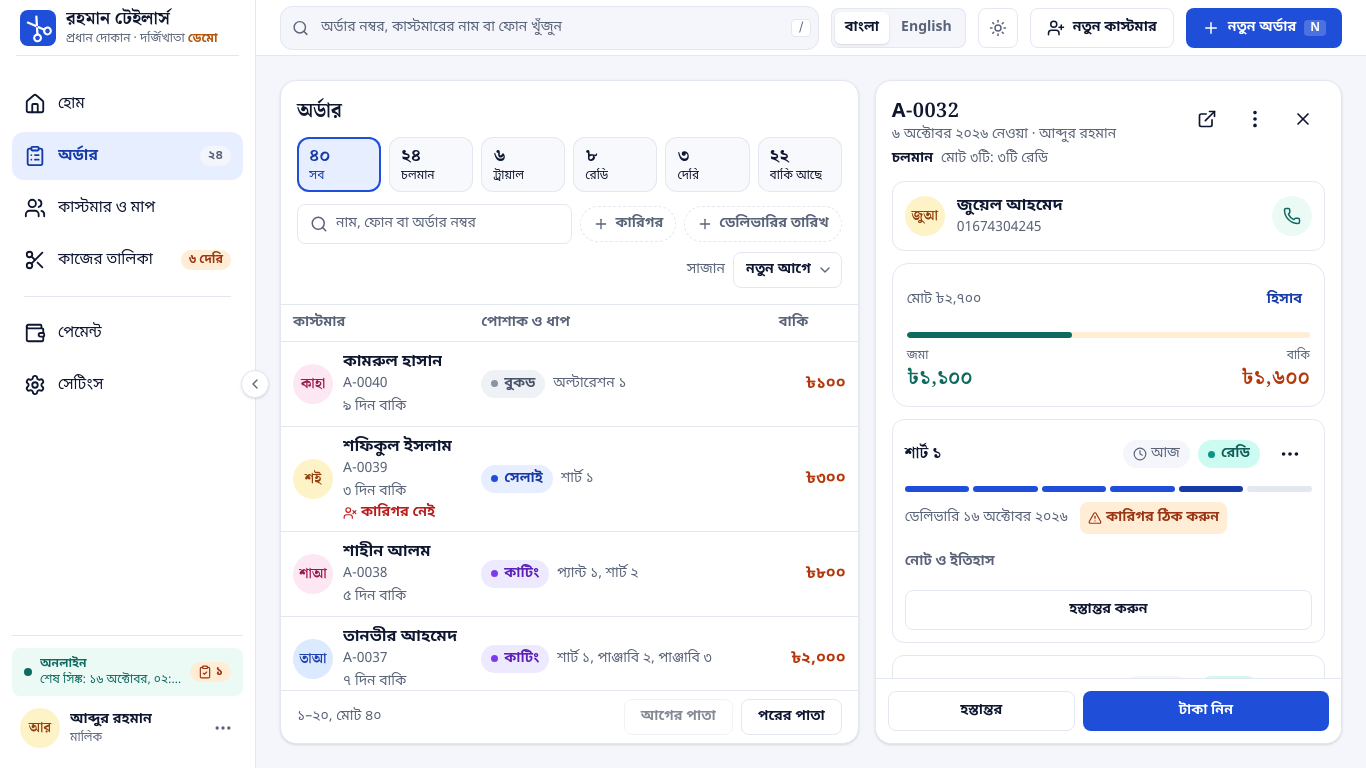
Test: Order detail › hands over one garment and keeps the order open
Expected: the element named "অর্ডারের বিস্তারিত" is shown, top-left (875, 80), bottom-right (1342, 744)
Click the button "হস্তান্তর করুন" at point(1108, 610), box top-left (905, 590), bottom-right (1312, 630)
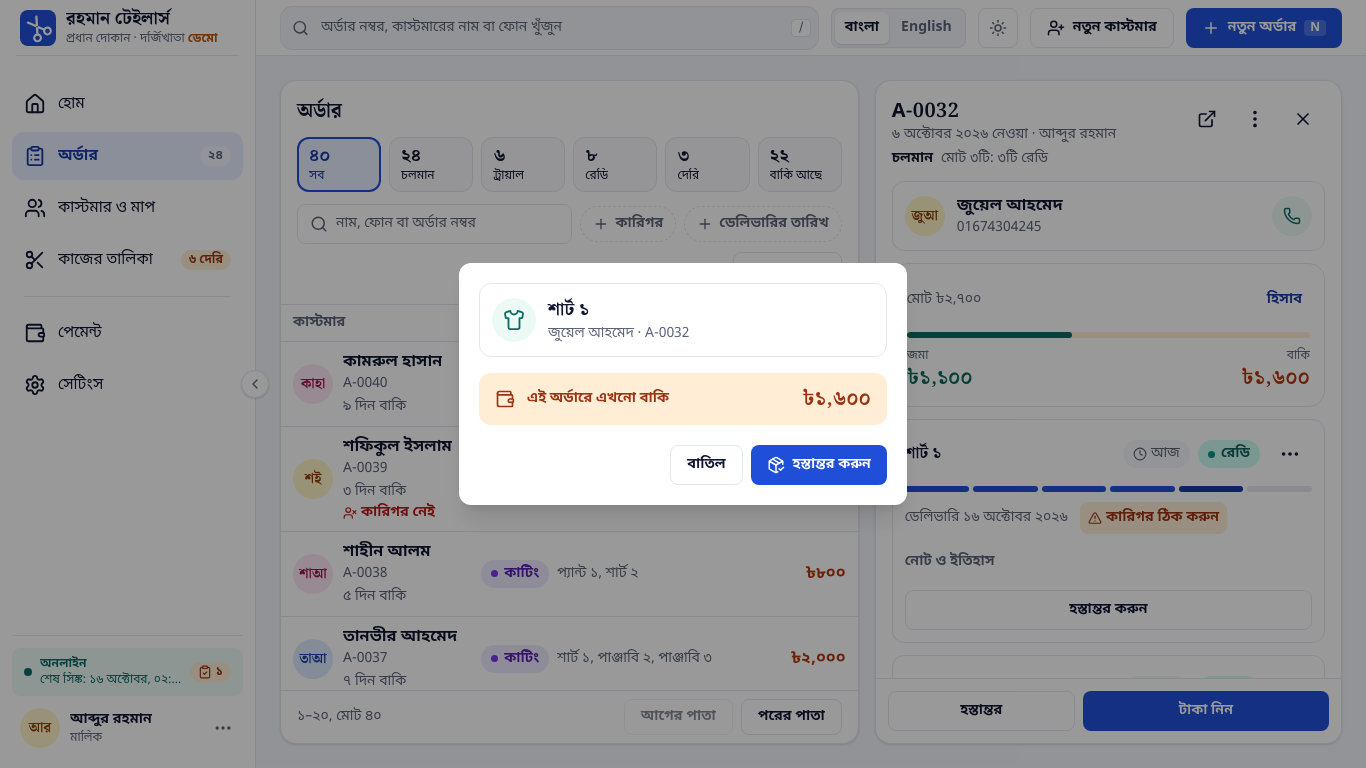
Expected: the text "শার্ট ১" is shown, top-left (548, 295), bottom-right (589, 324)
Click the button "হস্তান্তর করুন" at point(819, 465), box top-left (751, 445), bottom-right (887, 485)
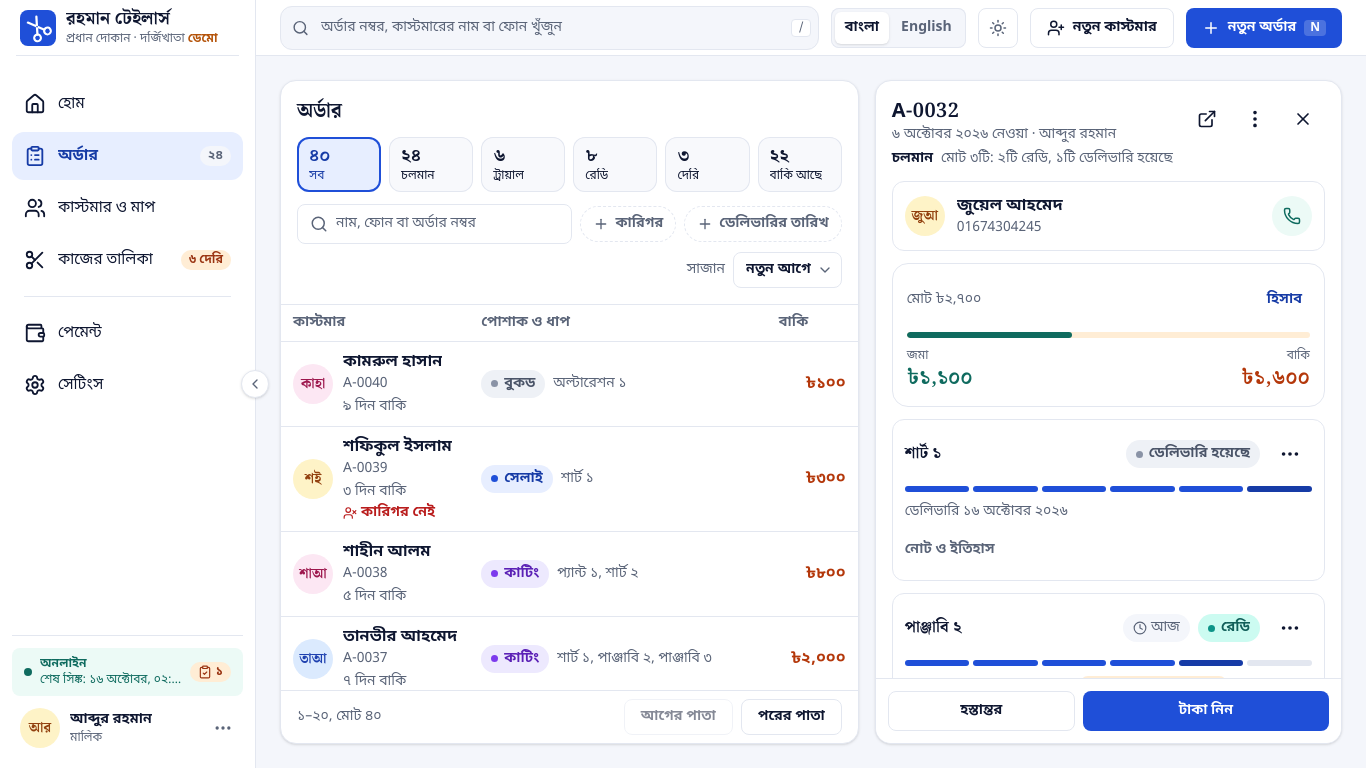
Expected: the text "চলমান" next to "মোট ৩টি: ২টি রেডি, ১টি ডেলিভারি হয়েছে" is shown, top-left (892, 149), bottom-right (933, 168)
Expected: the text "ডেলিভারি হয়েছে" is shown, top-left (1126, 440), bottom-right (1260, 468)
